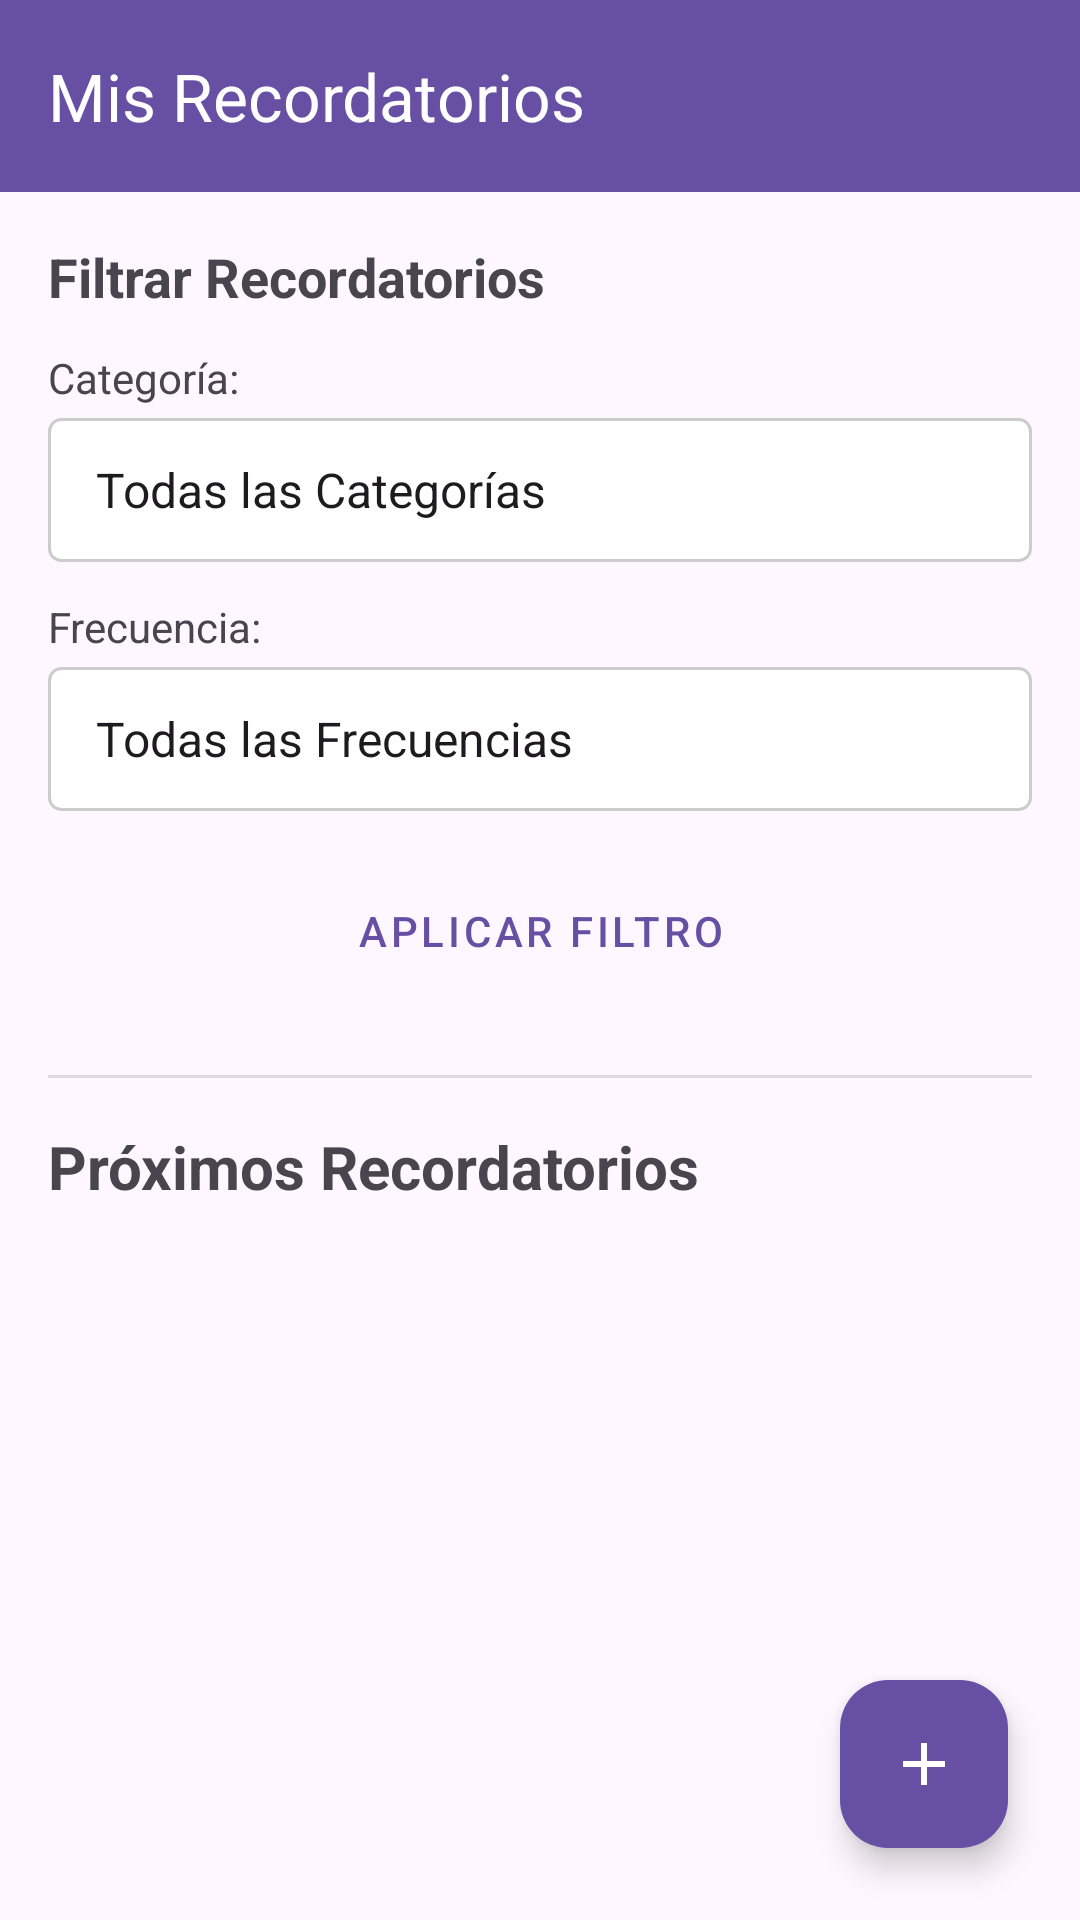

Where icons sit on this 1080x1920 app screen, as BBox(x1, y1, x2, y2):
Agregar nuevo recordatorio: BBox(840, 1680, 1008, 1848)
